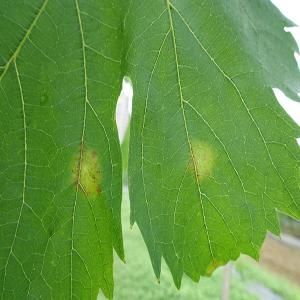Folha: (0, 0, 300, 300)
Fungo: (70, 143, 102, 198), (189, 139, 216, 181), (89, 172, 96, 182), (96, 183, 102, 193), (90, 150, 96, 158)
